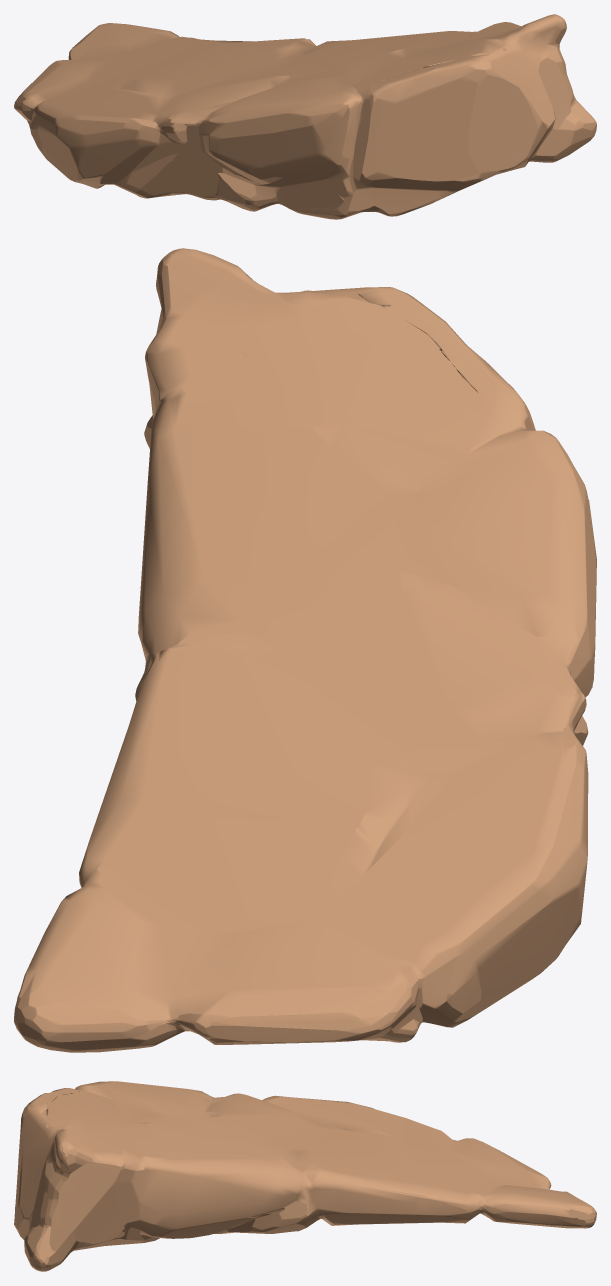
The picture shows the model from 3 angles, top to bottom: view 1: azimuth 30°, elevation 25°; view 2: azimuth 150°, elevation 25°; view 3: azimuth 270°, elevation 25°; orthographic projection. The views are drawn at different scales.
Parts seen in each view (by area): view 1: Mesh_26_LOD0; view 2: Mesh_26_LOD0; view 3: Mesh_26_LOD0.
Boxes of the visible parts, x1,y1,x2,y2 form: Mesh_26_LOD0: (14, 14, 596, 219); Mesh_26_LOD0: (14, 248, 596, 1052); Mesh_26_LOD0: (14, 1081, 596, 1271).
Size of what is drawn, in the model's own units: 2581 by 1289 by 3492.
